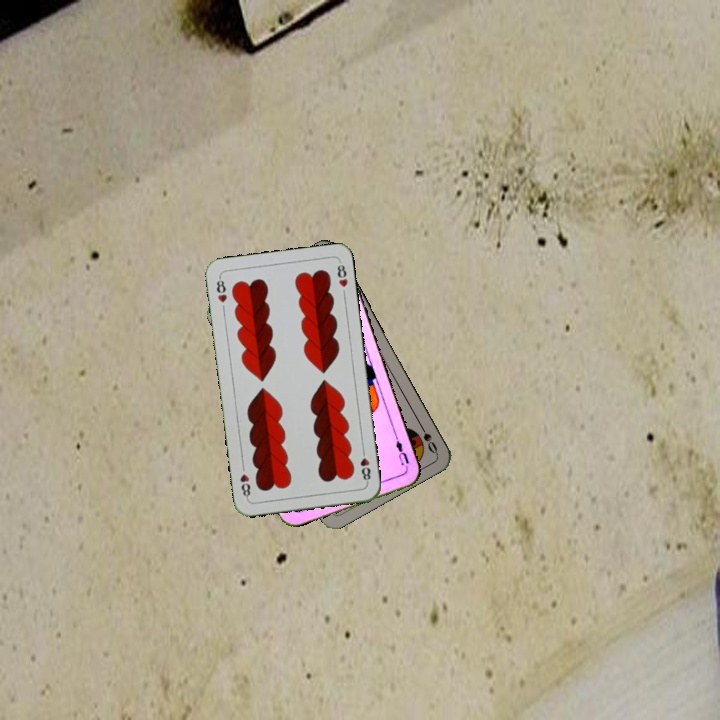EU: (390, 434, 412, 474)
H8: (356, 445, 373, 486), (213, 273, 230, 305)
SO: (414, 418, 440, 456)
